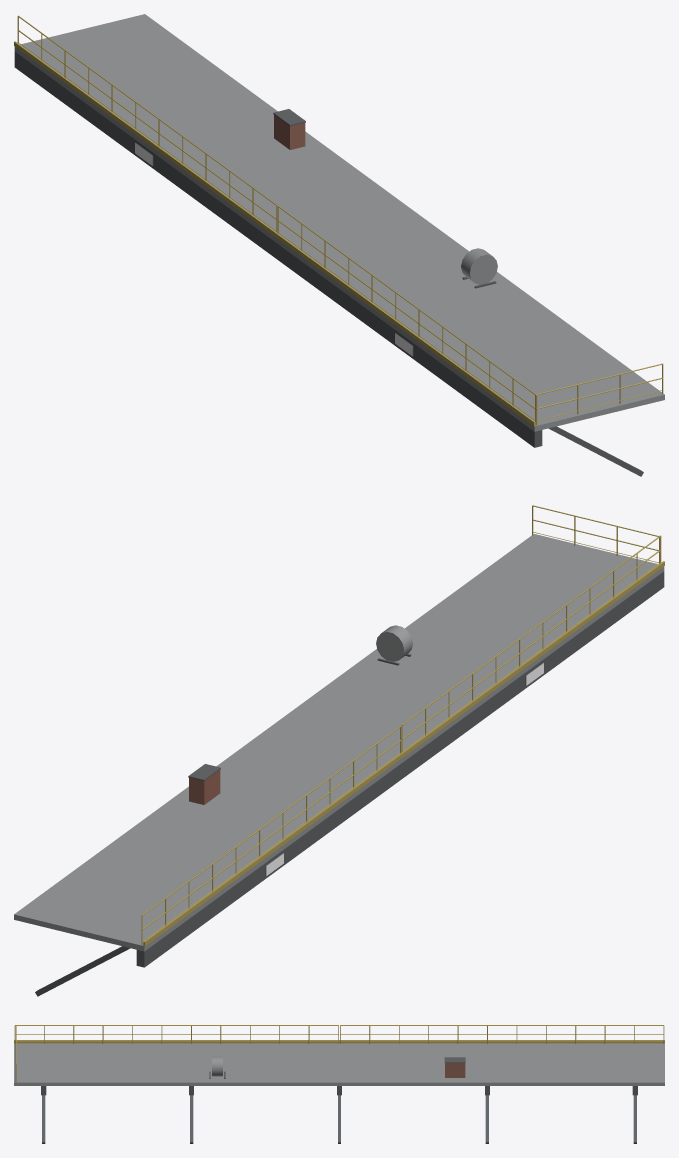
File: plat_e4.glb
3 renders of one model, top to bottom at view 1: azimuth 30°, elevation 25°; view 2: azimuth 150°, elevation 25°; view 3: azimuth 270°, elevation 25°, orthographic. The views are drawn at different scales.
Parts seen in each view (by area): view 1: plat_e4; view 2: plat_e4; view 3: plat_e4.
Part boxes in pixels (x1,y1,x2,y2): plat_e4: [14, 14, 664, 476]; plat_e4: [14, 505, 664, 996]; plat_e4: [14, 1025, 664, 1143].
Bounding box in the file's own units: 5.18 × 4.79 × 35.2.
